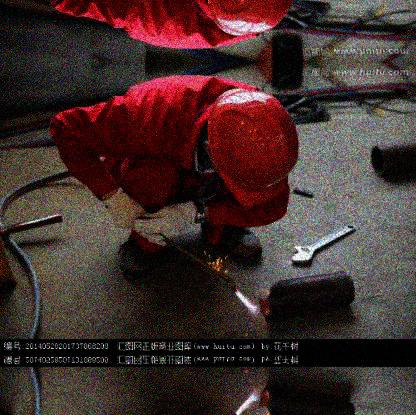helmet: (201, 95, 305, 217)
